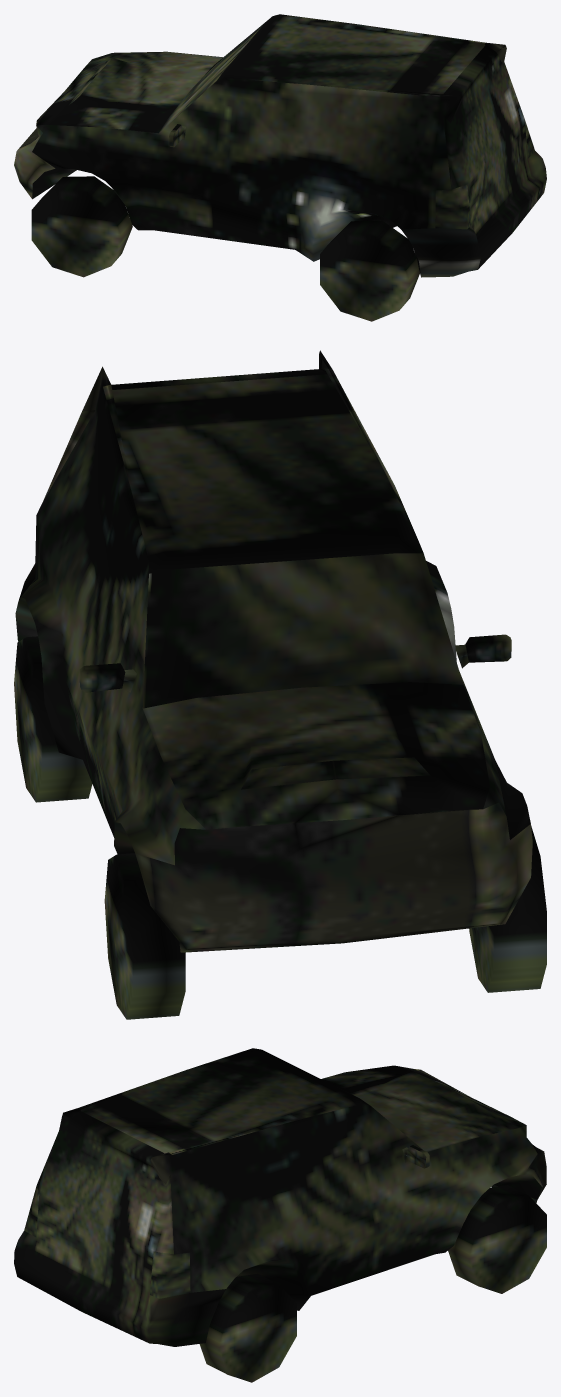
Rendered from slime1.ico.obj.
3 views of the same model, one above another, from view 1: azimuth 30°, elevation 25°; view 2: azimuth 150°, elevation 25°; view 3: azimuth 270°, elevation 25° (orthographic). The views are drawn at different scales.
Size of the model in its own units: 4.52 by 2.25 by 4.81.
